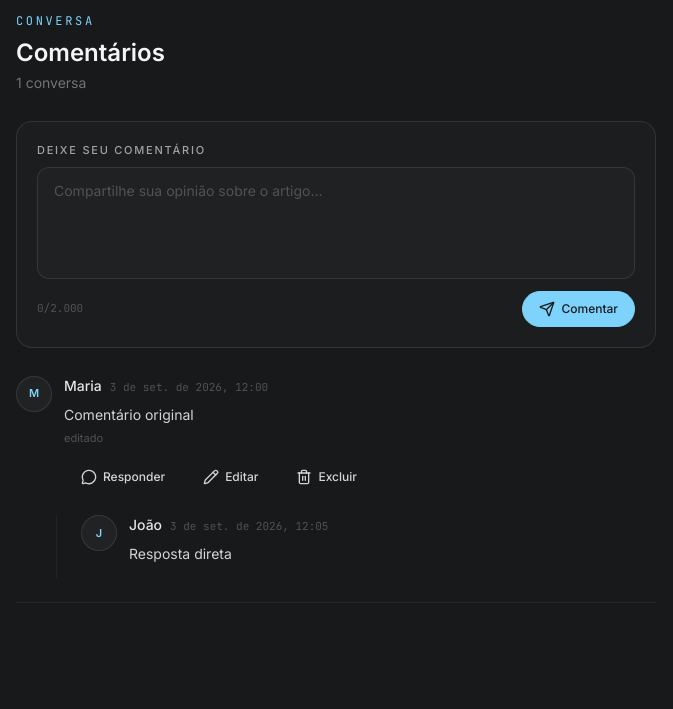
Scenario: seção de comentários › restaura o conteúdo anterior quando uma edição falha
Click the button "Editar": (231, 477) 186,459 -> 275,495
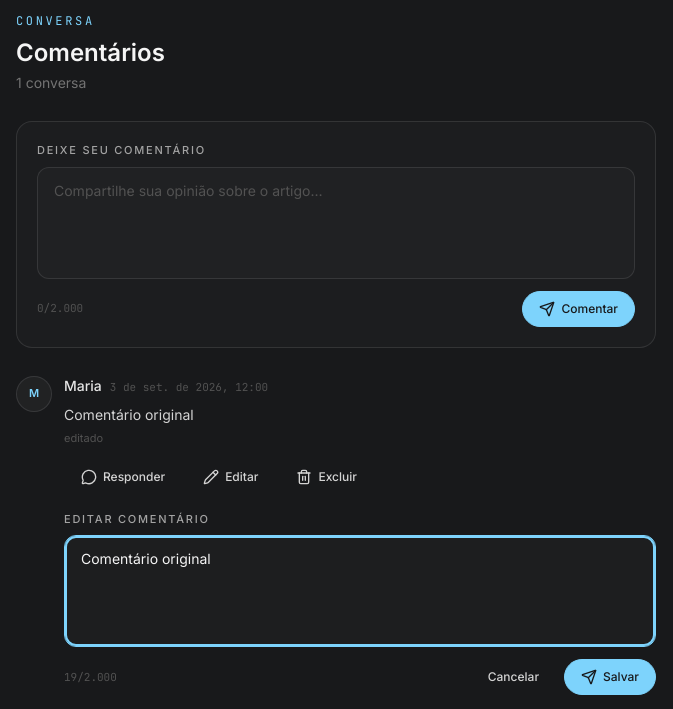
Replace the text in the text box labelled "Editar comentário" with "Alteração otimista": (360, 591) 64,535 -> 656,647
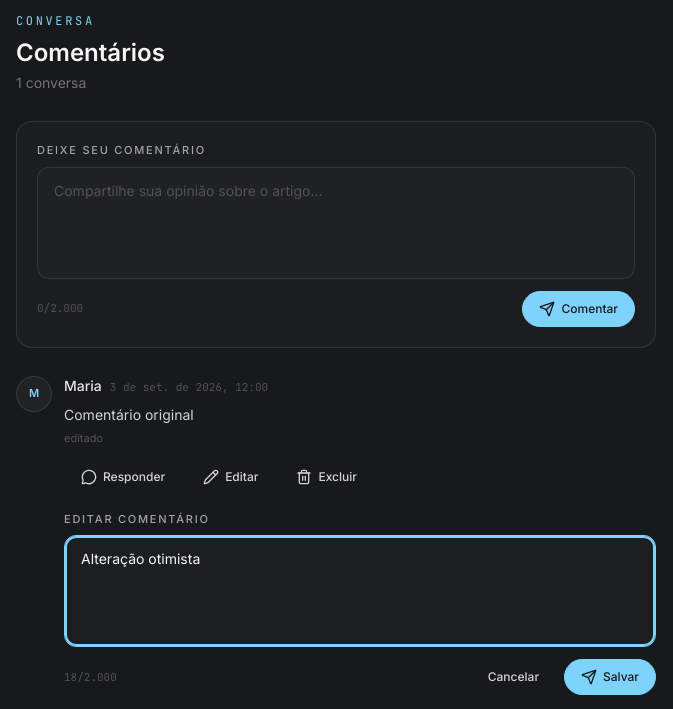
Click the button "Salvar": (610, 677) 564,659 -> 656,695
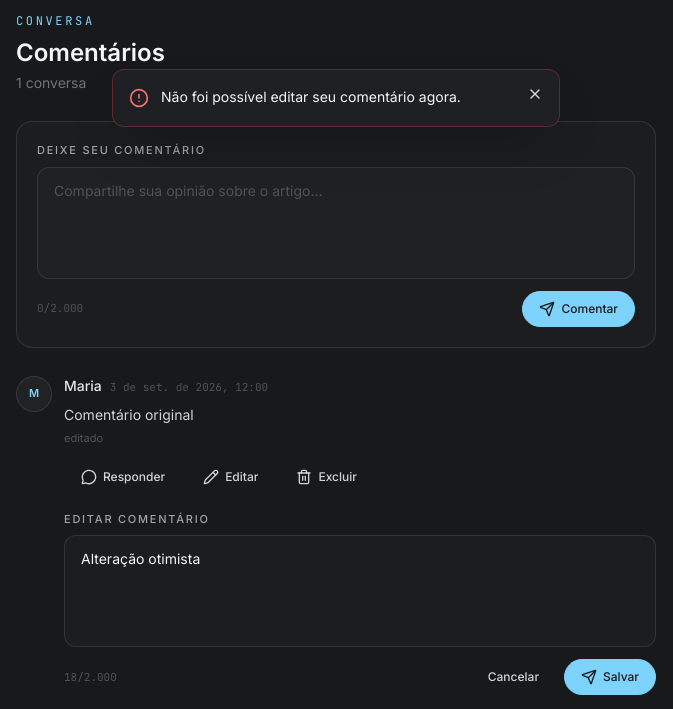
Check: the text "Comentário original" is shown, box 64,404 -> 194,426
Check: the message reads "Não foi possível editar seu comentário agora.", box 161,88 -> 461,105
